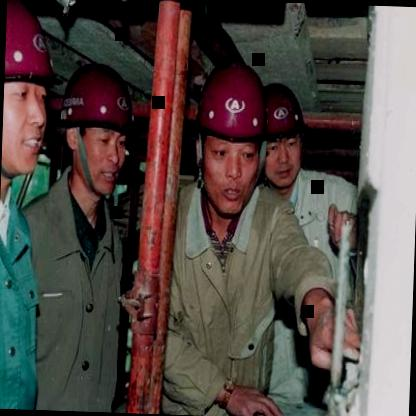helmet: (191, 58, 270, 216), (54, 57, 135, 206), (1, 0, 59, 174), (251, 79, 311, 193)
